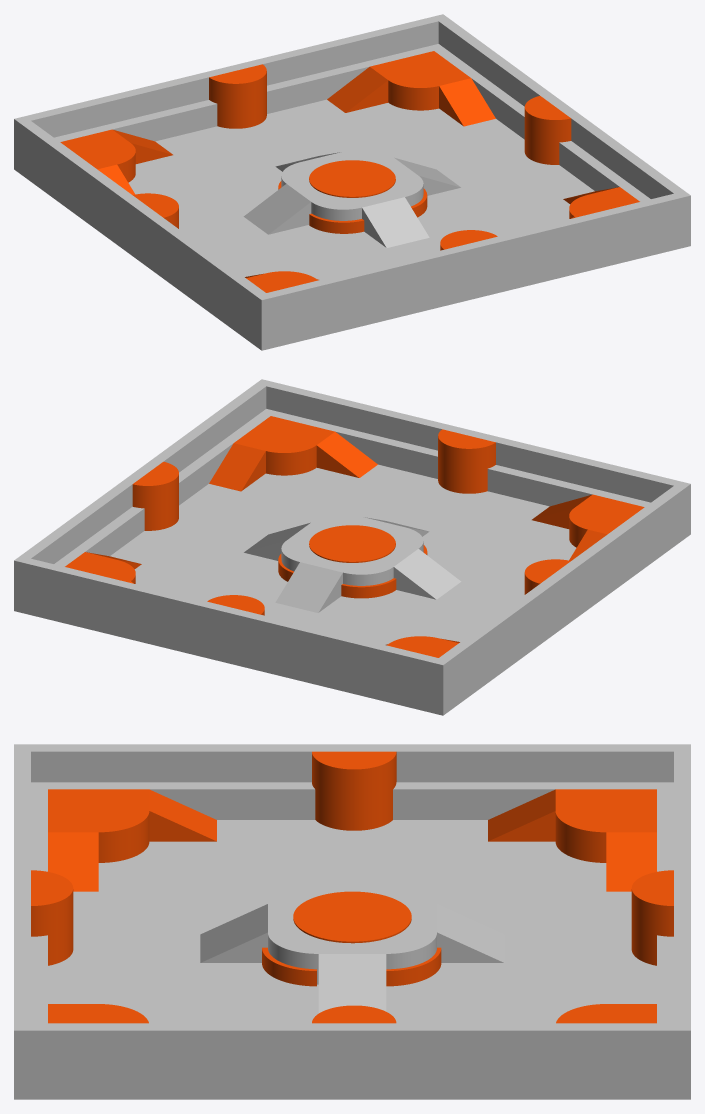
File: level.FBX
The picture shows the model from 3 angles, top to bottom: view 1: azimuth 30°, elevation 25°; view 2: azimuth 150°, elevation 25°; view 3: azimuth 270°, elevation 25°; orthographic projection. The views are drawn at different scales.
Visible parts, largest first — view 1: SM_SM_level; view 2: SM_SM_level; view 3: SM_SM_level.
Boxes of the visible parts, <box> form: SM_SM_level: <box>14,14,690,350</box>; SM_SM_level: <box>14,379,690,715</box>; SM_SM_level: <box>14,744,690,1099</box>.
Size of the model in its own units: 4000 by 4000 by 500.
